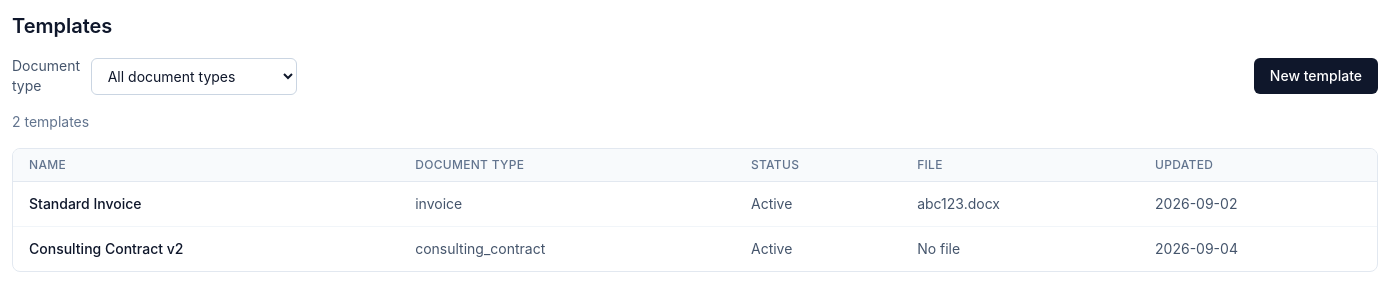
Test: TemplatesIndexPage › filters by document type using the backend document_type parameter, kept in the URL
This screenshot has width=1378, height=289.
Expected: the link "Standard Invoice" is shown, [29,195,142,212]
Select "Invoice" in the dropdown named "filter by document type" at [194, 76], box [91,58,298,94]
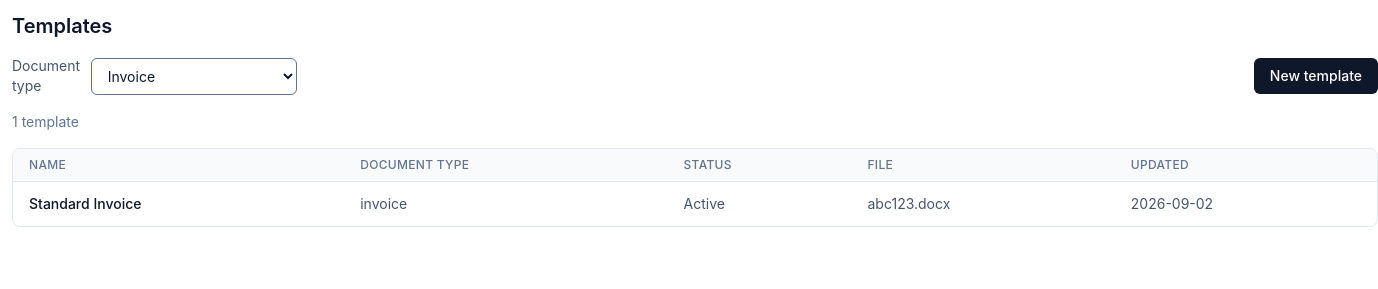
Now the link "Consulting Contract" is gone
